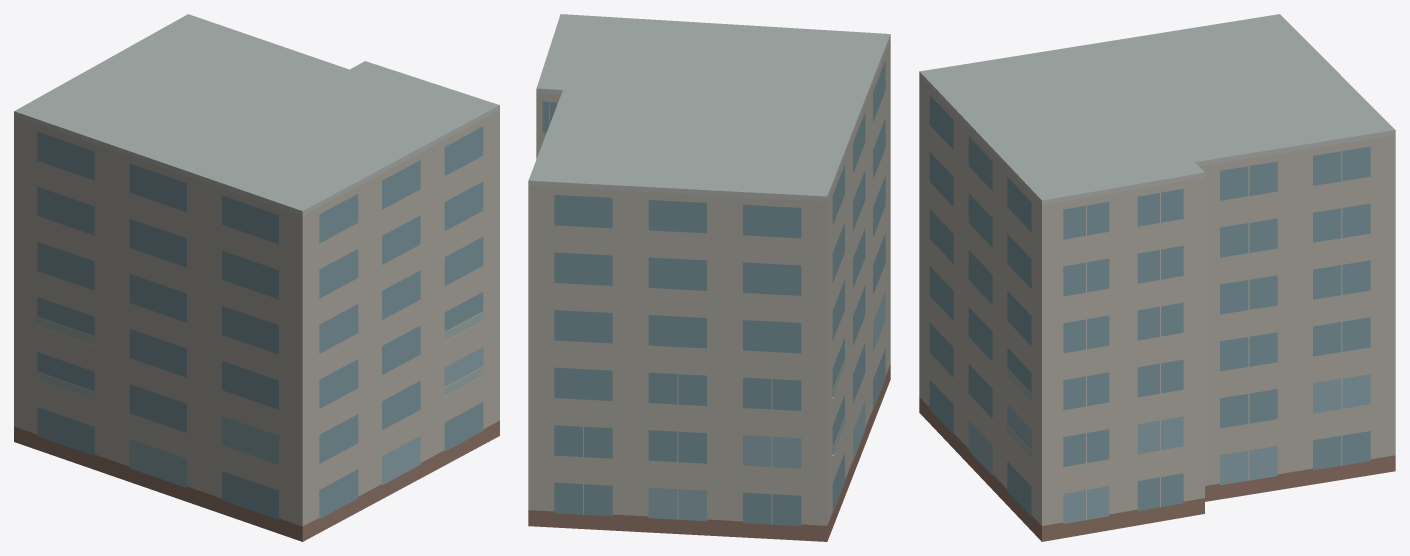
Rendered from survey-upis-32639559.glb.
3 views of the same model, side by side, from view 1: azimuth 30°, elevation 25°; view 2: azimuth 150°, elevation 25°; view 3: azimuth 270°, elevation 25° (orthographic). The views are drawn at different scales.
Visible parts, largest first — view 1: survey-upis-32639559.tmp; view 2: survey-upis-32639559.tmp; view 3: survey-upis-32639559.tmp.
Part boxes in pixels (x1,y1,x2,y2): survey-upis-32639559.tmp: (14, 14, 499, 541); survey-upis-32639559.tmp: (528, 14, 890, 541); survey-upis-32639559.tmp: (919, 14, 1395, 541).
Size of the model in its own units: 19.71 by 16.8 by 21.25.
